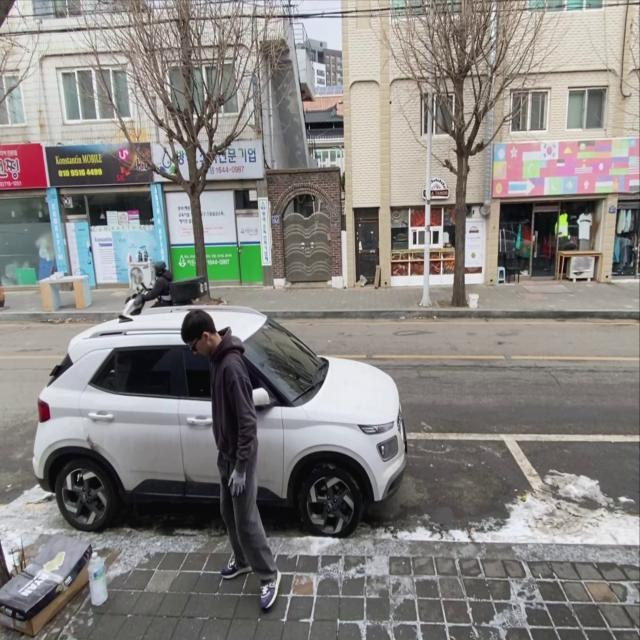gloved_hand: (228, 467, 246, 501)
